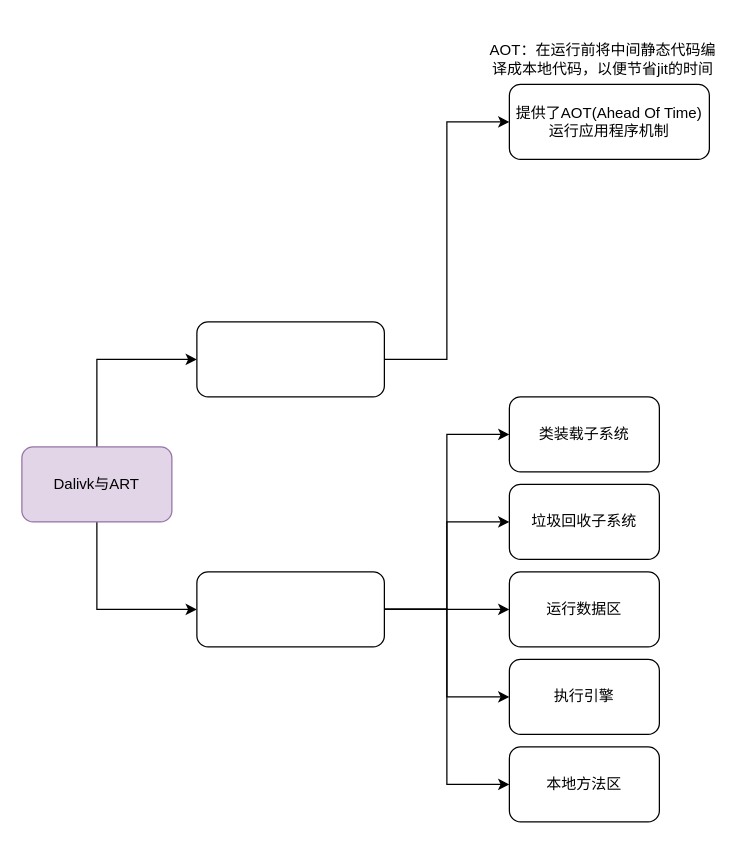
Some shapes in this 744 by 844 pixel diagram are drawn without their labels. Here are the shapes that lost their labels. From the top down, the centre of each, then its label:
At (290,359): "ART(Android Runtime)".
At (290,609): "Dalivk组成".
